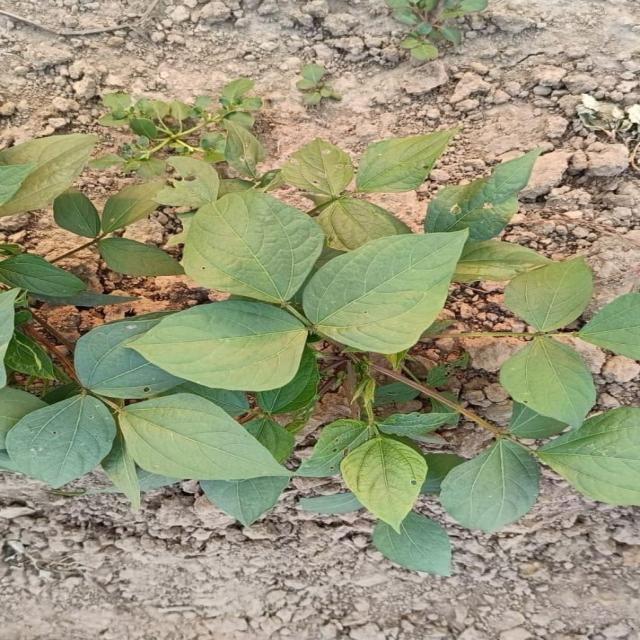plant: (0, 128, 638, 575)
